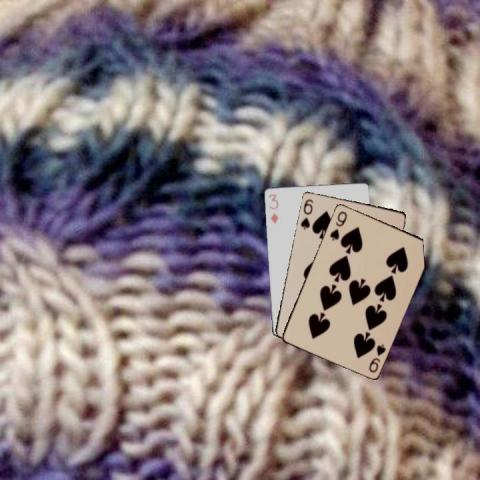3d: (266, 191, 280, 225)
6s: (297, 196, 315, 231)
9s: (326, 208, 348, 242), (365, 341, 387, 374)
